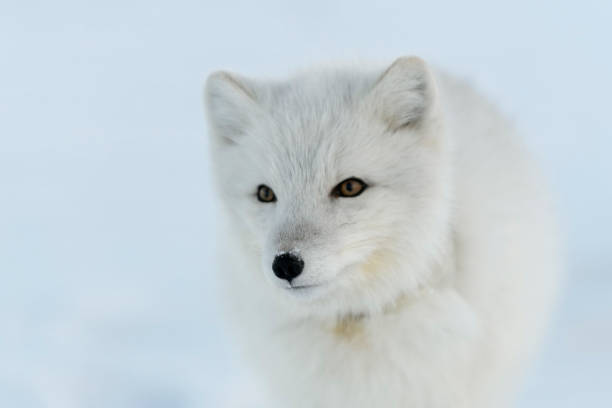arcticfox: (222, 105, 391, 312)
